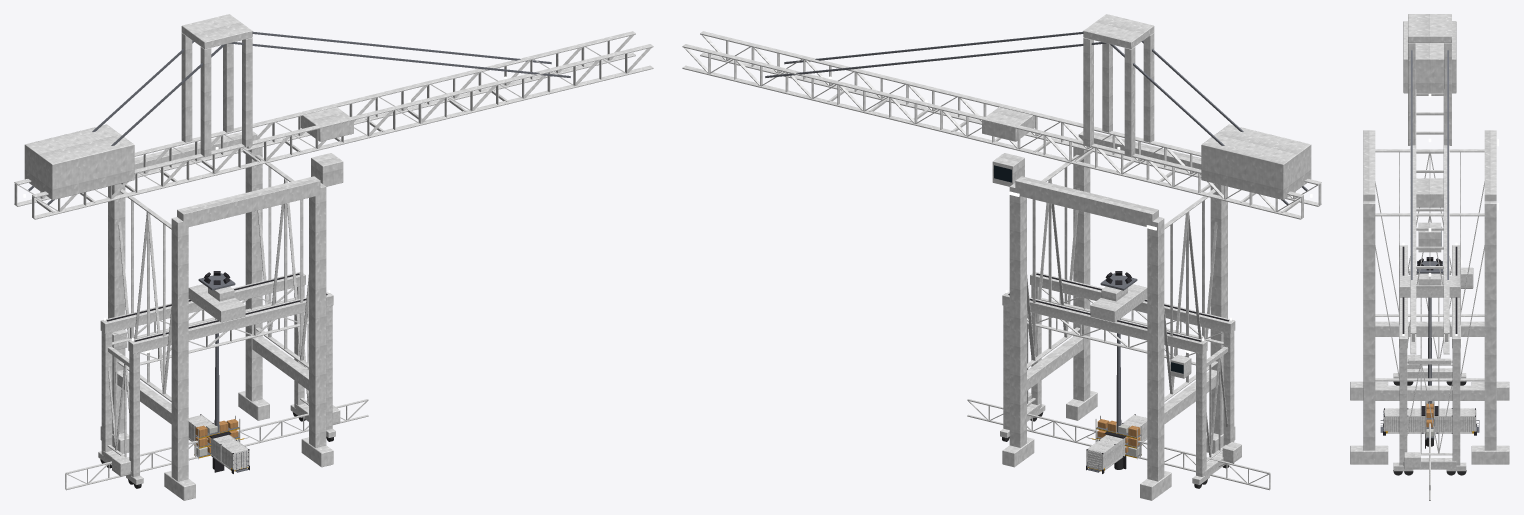
Rendered from docks.glb.
3 views of the same model, side by side, from view 1: azimuth 30°, elevation 25°; view 2: azimuth 150°, elevation 25°; view 3: azimuth 270°, elevation 25° (orthographic). The views are drawn at different scales.
Visible parts, largest first — view 1: sts_crane__q, rtg_frame__q, roof_truss__q, rtg_trolley__q, container40__q, rack__q, light_mast__q; view 2: sts_crane__q, rtg_frame__q, roof_truss__q, rtg_trolley__q, container40__q, rack__q, light_mast__q; view 3: sts_crane__q, rtg_frame__q, container40__q, rtg_trolley__q, light_mast__q, container20__q, rack__q, booth__q.
Boxes of the visible parts, box(x1,y1,x2,y2) form: sts_crane__q: box(14, 14, 653, 500); rtg_frame__q: box(98, 272, 340, 488); roof_truss__q: box(65, 399, 368, 490); rtg_trolley__q: box(188, 284, 245, 322); container40__q: box(188, 414, 249, 470); rack__q: box(194, 415, 240, 459); light_mast__q: box(198, 271, 235, 432); sts_crane__q: box(682, 14, 1321, 500); rtg_frame__q: box(1000, 272, 1241, 488); roof_truss__q: box(967, 399, 1270, 490); rtg_trolley__q: box(1090, 284, 1147, 322); container40__q: box(1086, 414, 1147, 470); rack__q: box(1095, 415, 1141, 459); light_mast__q: box(1100, 271, 1137, 432); sts_crane__q: box(1350, 14, 1509, 464); rtg_frame__q: box(1393, 242, 1473, 475); container40__q: box(1383, 408, 1476, 433); rtg_trolley__q: box(1399, 273, 1460, 297); light_mast__q: box(1417, 257, 1442, 403); container20__q: box(1407, 408, 1452, 433); rack__q: box(1425, 401, 1434, 439); booth__q: box(1421, 406, 1438, 432).
Bounding box in the file's own units: 90.21 × 61.4 × 21.
Materials: 11 (11 with a texture image).
